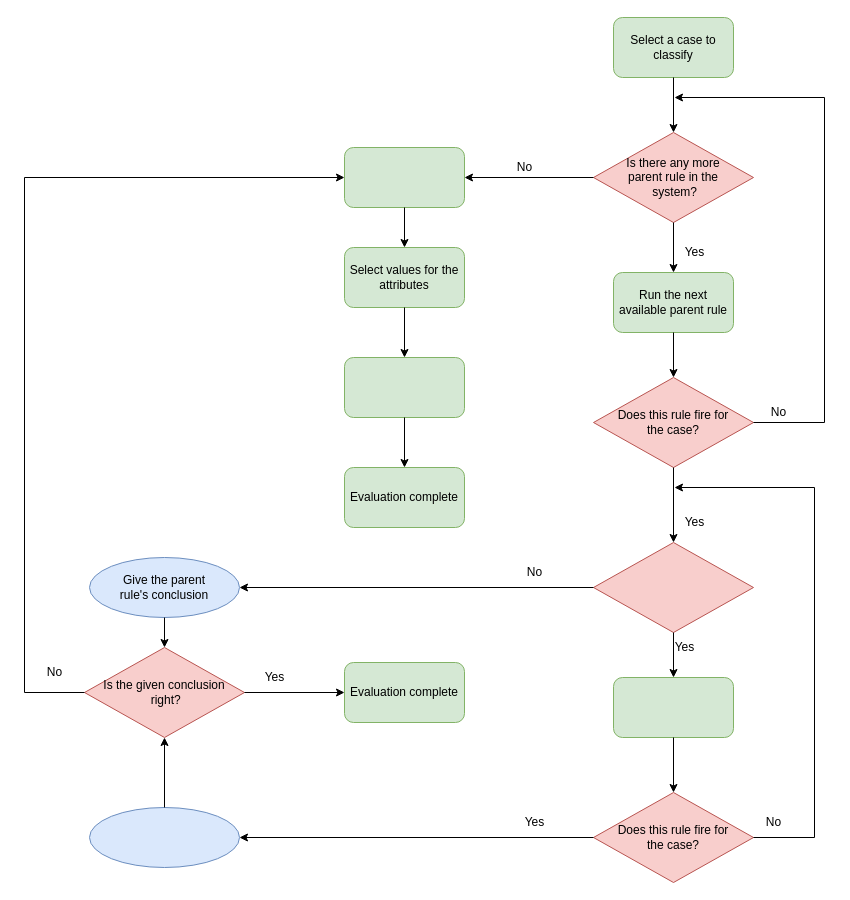
The diagram is 850 pixels wide and 900 high, and some of its shapes have lost their labels. Here are the shapes that lost their labels. From the top down, the centre of each, then its label:
At point 404,177: "Add a rule for this case".
At point 404,387: "Add conclusion for the rule".
At point 673,587: "Is there any refinement rule left for this parent rule?".
At point 673,707: "Run the next available refinement rule".
At point 164,837: "Give this refinement rule's conclusion".
